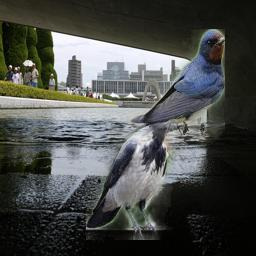Crow: (86, 110, 179, 240)
Swallow: (108, 29, 225, 159)
